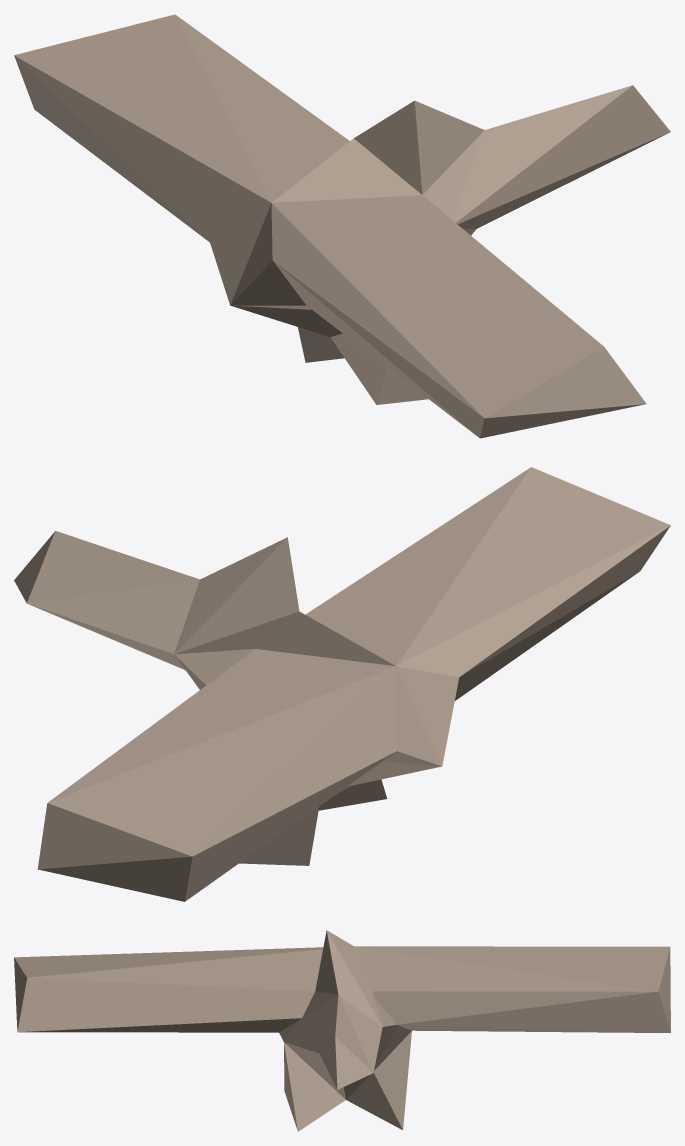
3 views of the same model, one above another, from view 1: azimuth 30°, elevation 25°; view 2: azimuth 150°, elevation 25°; view 3: azimuth 270°, elevation 25° (orthographic). The views are drawn at different scales.
Visible parts, largest first — view 1: part0; view 2: part0; view 3: part0.
Part boxes in pixels (x1,y1,x2,y2): part0: [14, 14, 670, 438]; part0: [14, 467, 670, 901]; part0: [14, 930, 670, 1131].
Bounding box in the file's own units: 2.83 × 1.78 × 5.36.
